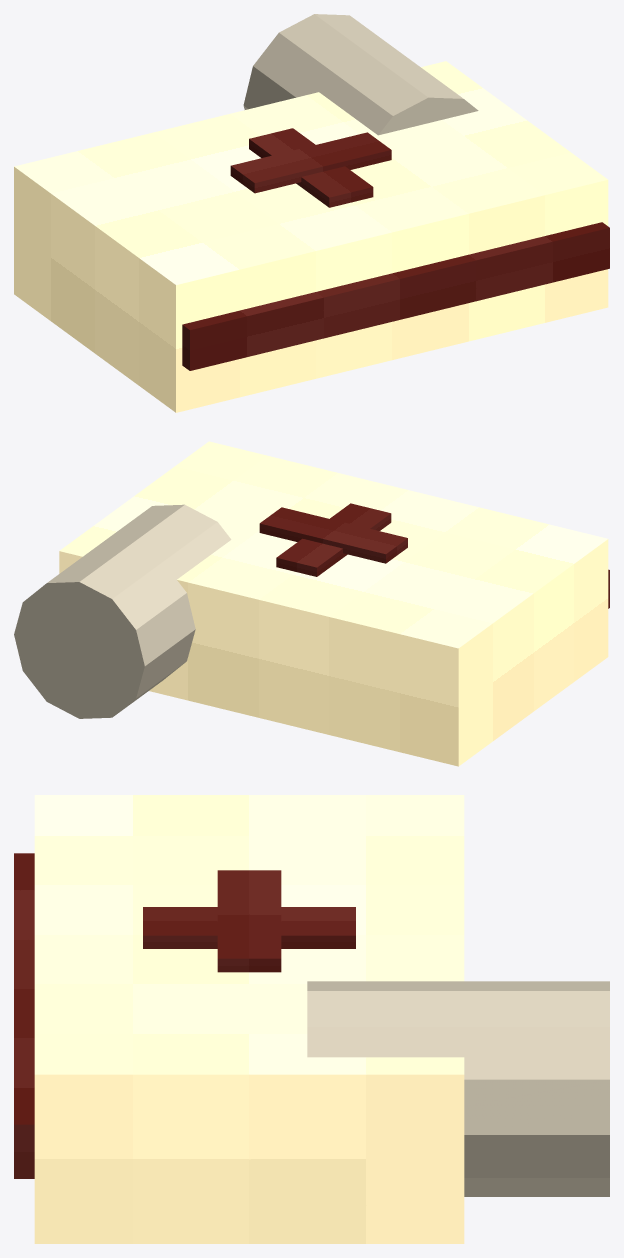
File: bandage.glb
The picture shows the model from 3 angles, top to bottom: view 1: azimuth 30°, elevation 25°; view 2: azimuth 150°, elevation 25°; view 3: azimuth 270°, elevation 25°; orthographic projection. The views are drawn at different scales.
Visible parts, largest first — view 1: First aid packet, Sealed seam, Loose gauze roll, Medical cross short, Medical cross long; view 2: First aid packet, Loose gauze roll, Medical cross short, Medical cross long; view 3: First aid packet, Loose gauze roll, Sealed seam, Medical cross short, Medical cross long.
Part boxes in pixels (left/top/right/bottom): First aid packet: left=14, top=61, right=608, bottom=412; Sealed seam: left=182, top=222, right=609, bottom=370; Loose gauze roll: left=243, top=14, right=478, bottom=135; Medical cross short: left=230, top=132, right=391, bottom=193; Medical cross long: left=249, top=128, right=373, bottom=207; First aid packet: left=59, top=441, right=608, bottom=766; Loose gauze roll: left=14, top=504, right=231, bottom=718; Medical cross short: left=259, top=507, right=407, bottom=563; Medical cross long: left=276, top=503, right=391, bottom=576; First aid packet: left=34, top=795, right=464, bottom=1243; Loose gauze roll: left=307, top=981, right=609, bottom=1196; Sealed seam: left=14, top=853, right=34, bottom=1178; Medical cross short: left=217, top=870, right=281, bottom=972; Medical cross long: left=143, top=907, right=355, bottom=948.
Bounding box in the file's own units: 0.177 × 0.06 × 0.1595.
Materials: 4 (3 with a texture image).
